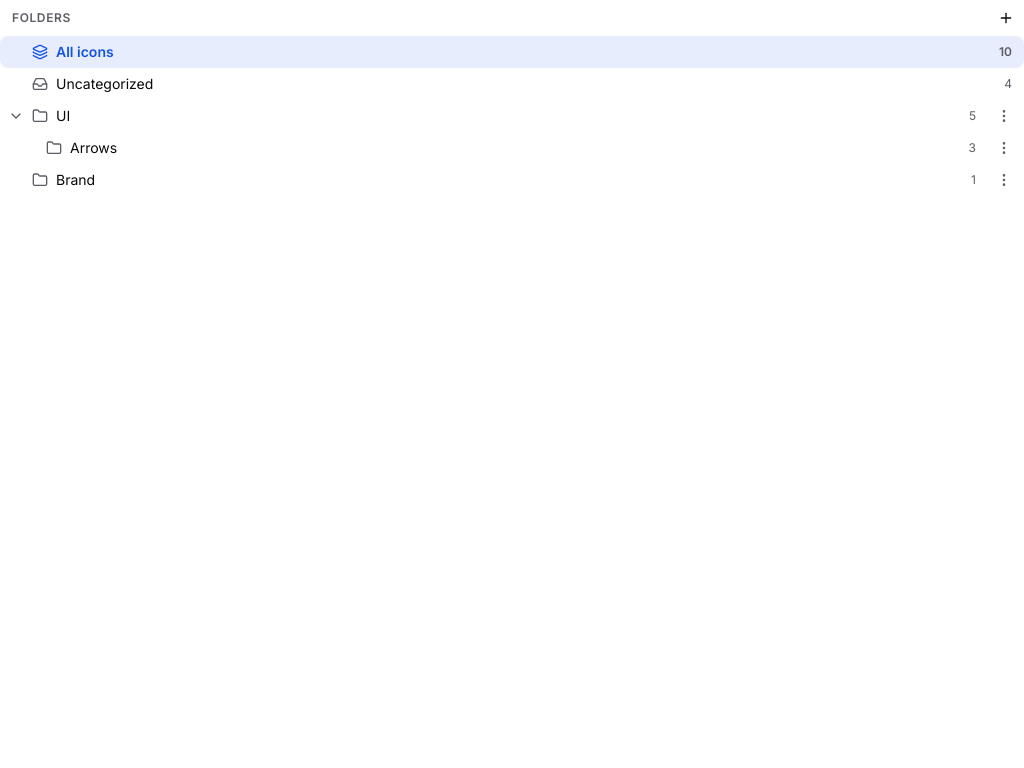
it: folder actions › creates a root folder
Click the button named "New folder": (1006, 18) x1=992 y1=4 x2=1020 y2=32
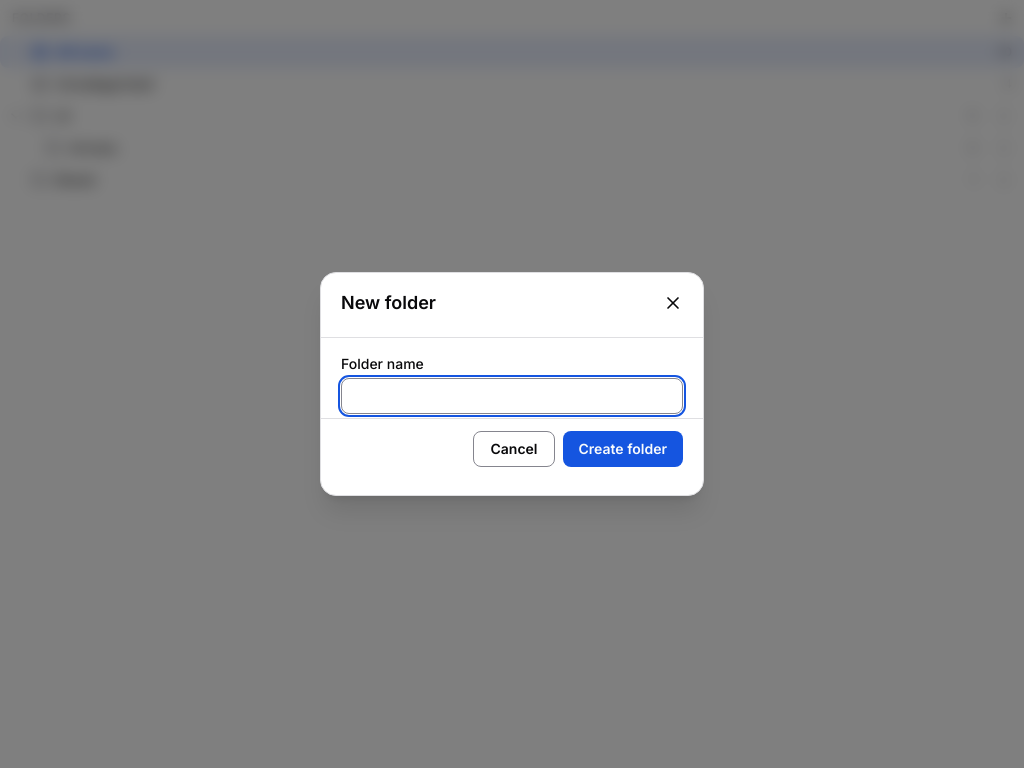
In the field labelled "Folder name": (512, 396) x1=341 y1=378 x2=683 y2=414, type "  Logos "
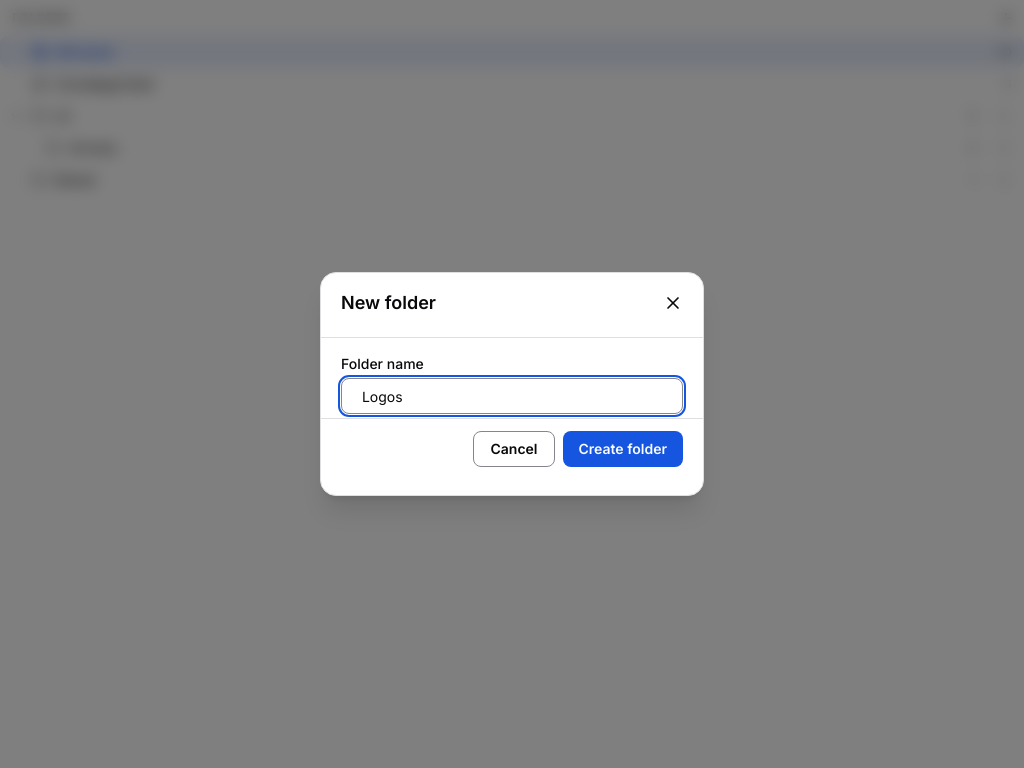
Click the button "Create folder": (623, 449) x1=562 y1=431 x2=683 y2=467
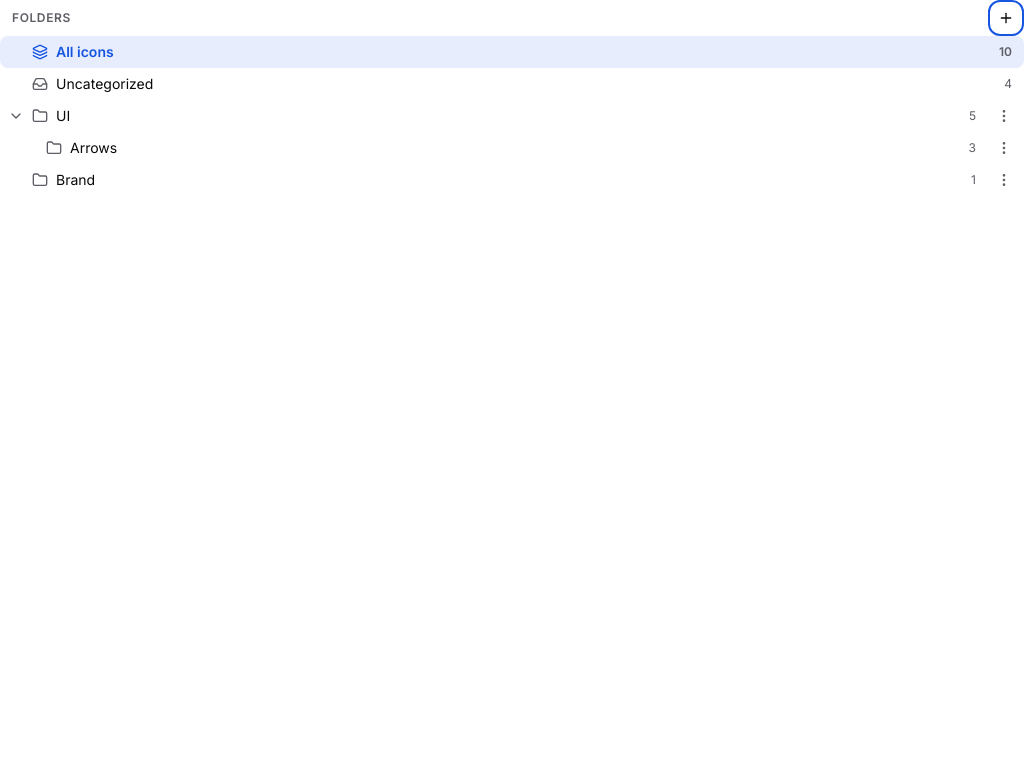
Result: the dialog is gone
